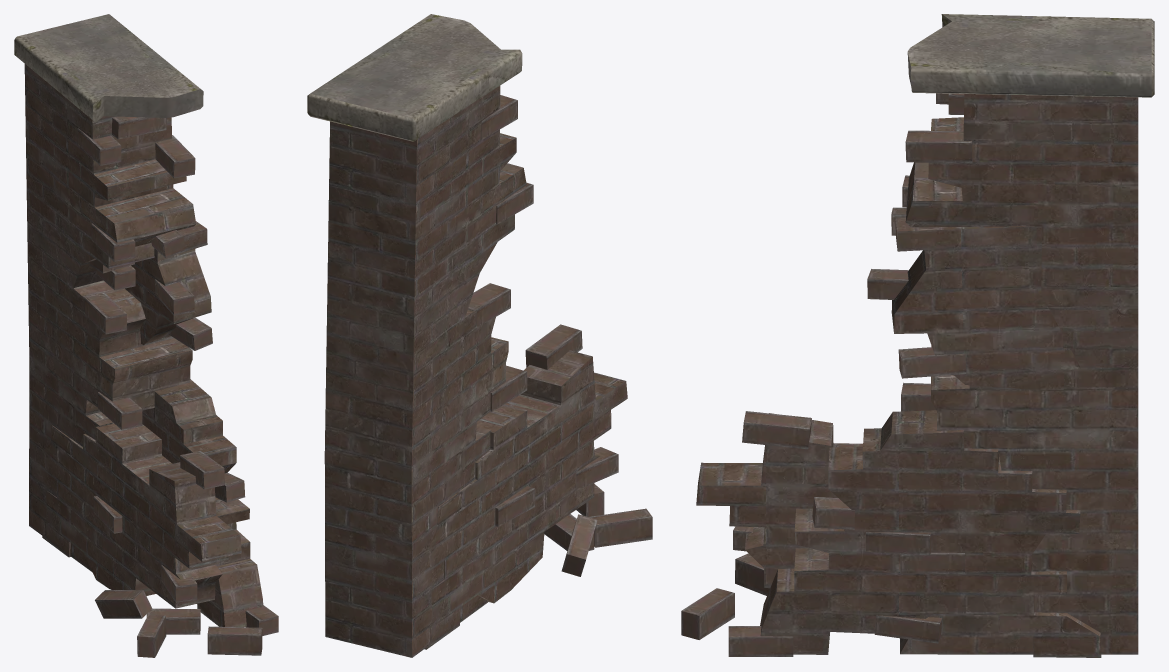
The model's file is wall_plaster_300x150_end.glb.
3 views of the same model, side by side, from view 1: azimuth 30°, elevation 25°; view 2: azimuth 150°, elevation 25°; view 3: azimuth 270°, elevation 25° (orthographic). The views are drawn at different scales.
Parts seen in each view (by area): view 1: wall_plaster_300x150_end; view 2: wall_plaster_300x150_end; view 3: wall_plaster_300x150_end.
Boxes of the visible parts, box(x1,y1,x2,y2) form: wall_plaster_300x150_end: box(14, 14, 278, 657); wall_plaster_300x150_end: box(307, 14, 652, 657); wall_plaster_300x150_end: box(681, 14, 1154, 657).
Bounding box in the file's own units: 0.9124 × 3.01 × 2.2.
Materials: 2 (2 with a texture image).
